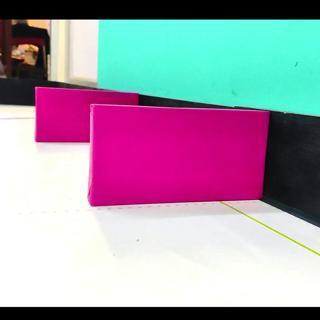xparking: (94, 107, 267, 207), (36, 90, 90, 142)
